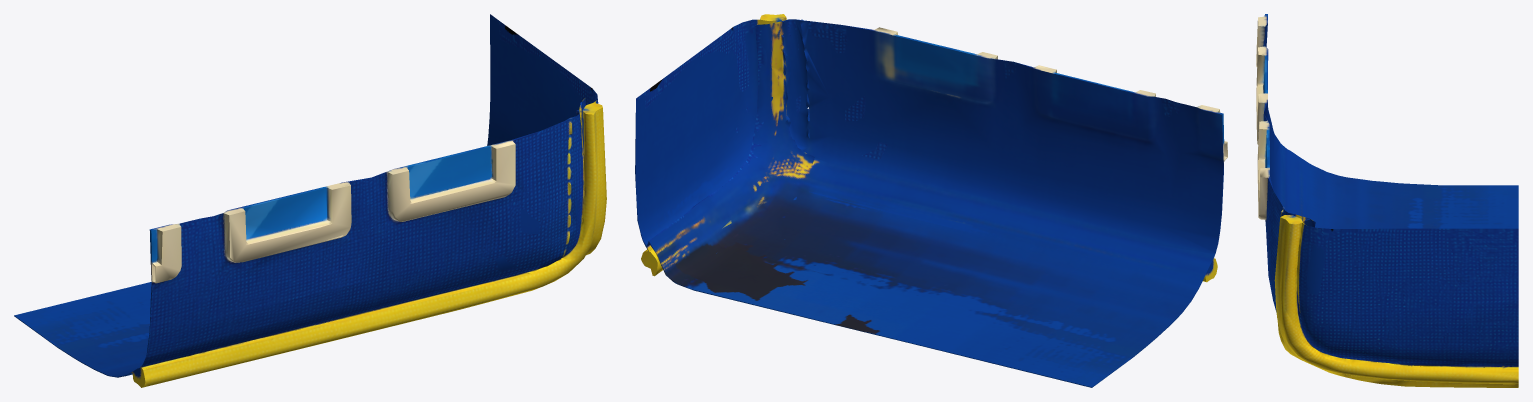
Rendered from 2-ground-floor-front-right.fbx.
3 views of the same model, side by side, from view 1: azimuth 30°, elevation 25°; view 2: azimuth 150°, elevation 25°; view 3: azimuth 270°, elevation 25° (orthographic). The views are drawn at different scales.
Visible parts, largest first — view 1: ground-floor-front-right; view 2: ground-floor-front-right; view 3: ground-floor-front-right.
Part boxes in pixels (<box>): ground-floor-front-right: <box>14,14,606,387</box>; ground-floor-front-right: <box>635,14,1227,387</box>; ground-floor-front-right: <box>1256,14,1518,387</box>.
Bounding box in the file's own units: 7475 × 2786 × 3855.
Materials: 1 (1 with a texture image).
